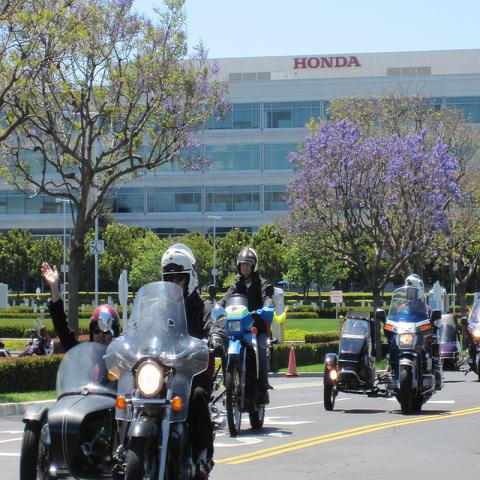motorcycle: (105, 282, 209, 474), (19, 308, 119, 478), (209, 283, 277, 440), (380, 288, 441, 410), (323, 316, 381, 410), (466, 295, 480, 380), (33, 343, 41, 355)
